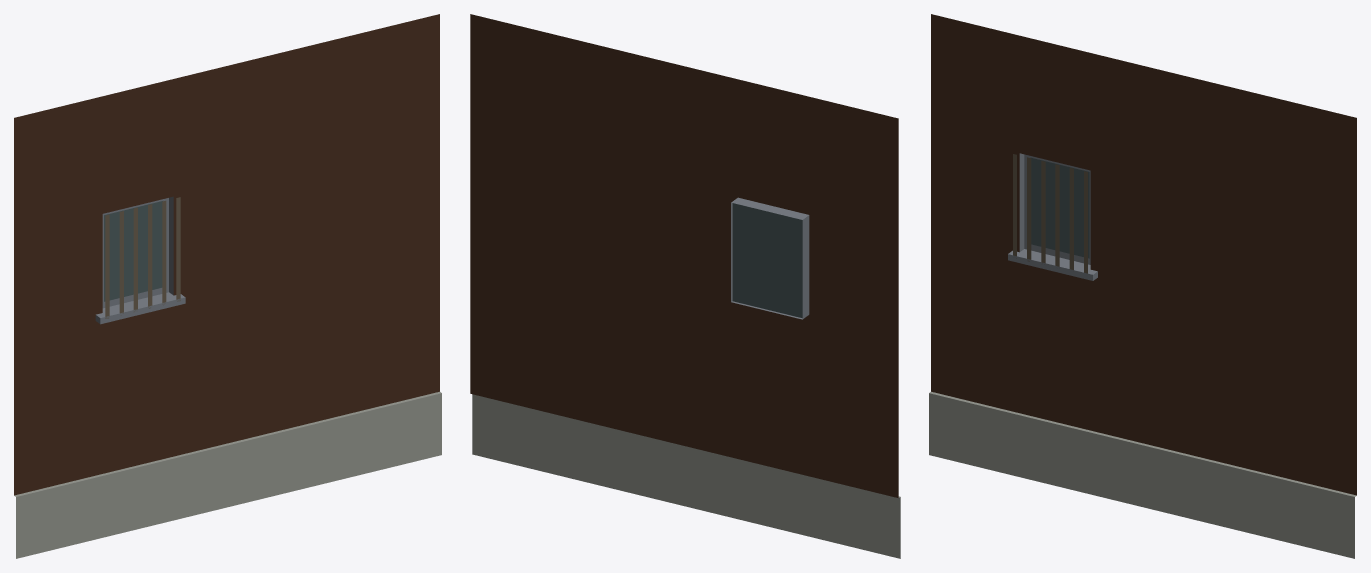
3 renders of one model, left to right at view 1: azimuth 30°, elevation 25°; view 2: azimuth 150°, elevation 25°; view 3: azimuth 330°, elevation 25°, orthographic.
Visible parts, largest first — view 1: a2000/0/base-w4; view 2: a2000/0/base-w4; view 3: a2000/0/base-w4.
Part boxes in pixels (left/top/right/bottom): a2000/0/base-w4: left=14, top=14, right=441, bottom=558; a2000/0/base-w4: left=470, top=14, right=900, bottom=558; a2000/0/base-w4: left=929, top=14, right=1356, bottom=558.
Bounding box in the file's own units: 3.6 × 3.55 × 0.17.
